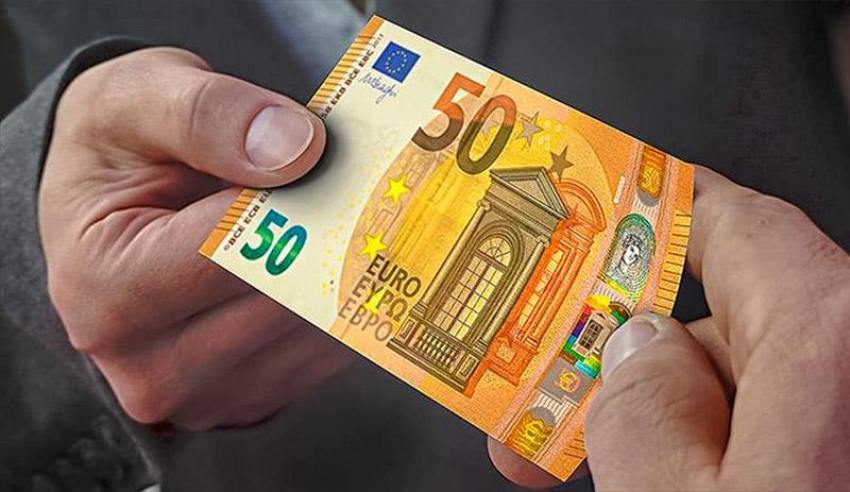billete: (197, 13, 702, 487)
